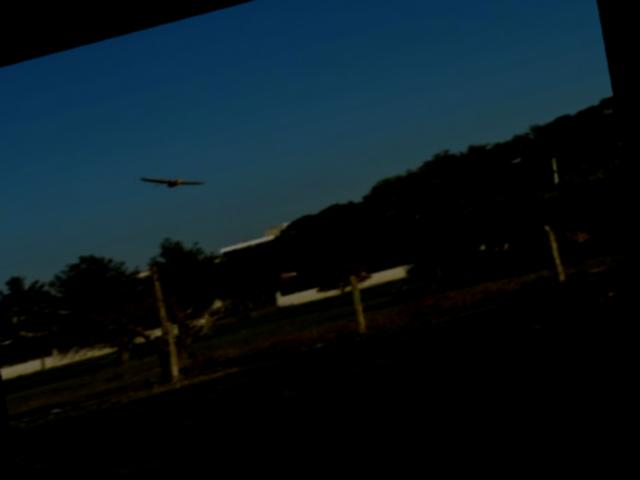iha: (135, 154, 212, 209)
